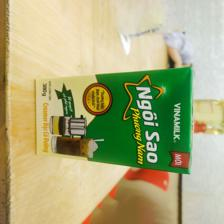NSPN_Hop: (35, 67, 192, 175)
